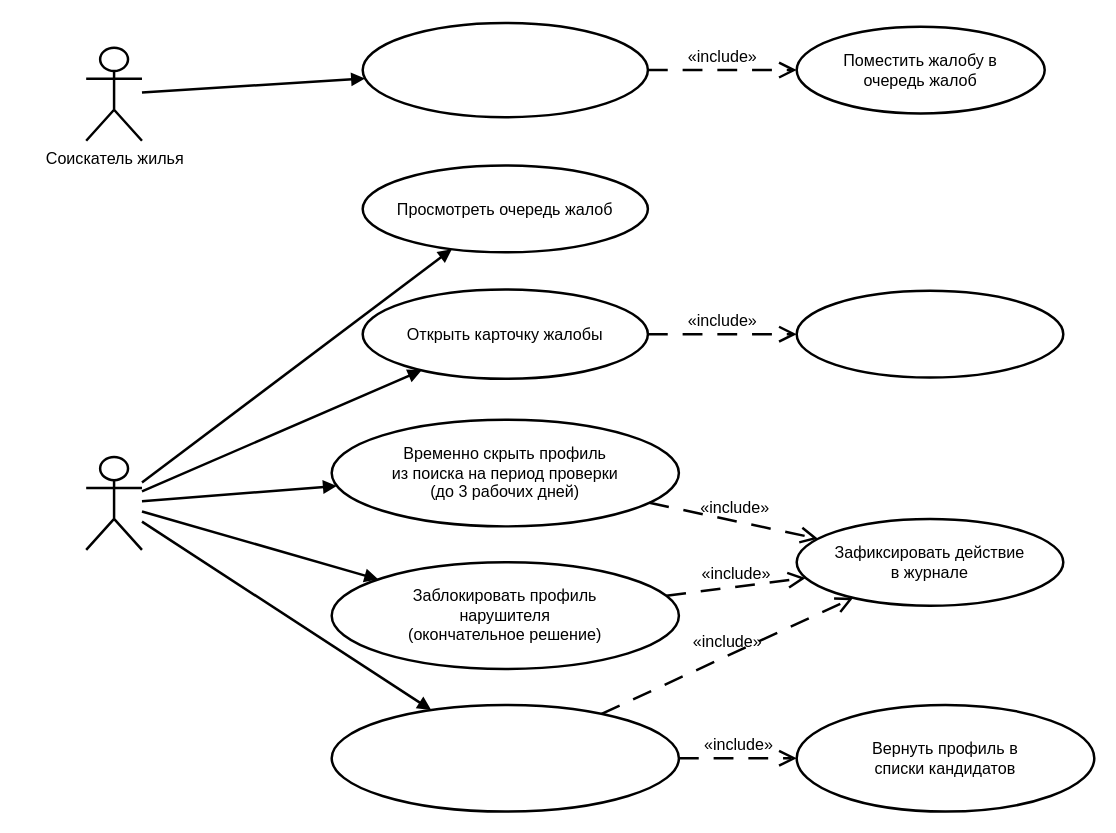
Some shapes in this 1116 by 833 pixel diagram are drawn without their labels. Each missing label, with the box of its shape:
Администратор системы: (84, 455, 143, 551)
Отклонить жалобу (окончательное решение): (330, 703, 680, 812)
Подать жалобу на профиль: (361, 21, 649, 118)
Показать историю жалоб на профиль: (795, 289, 1064, 378)
